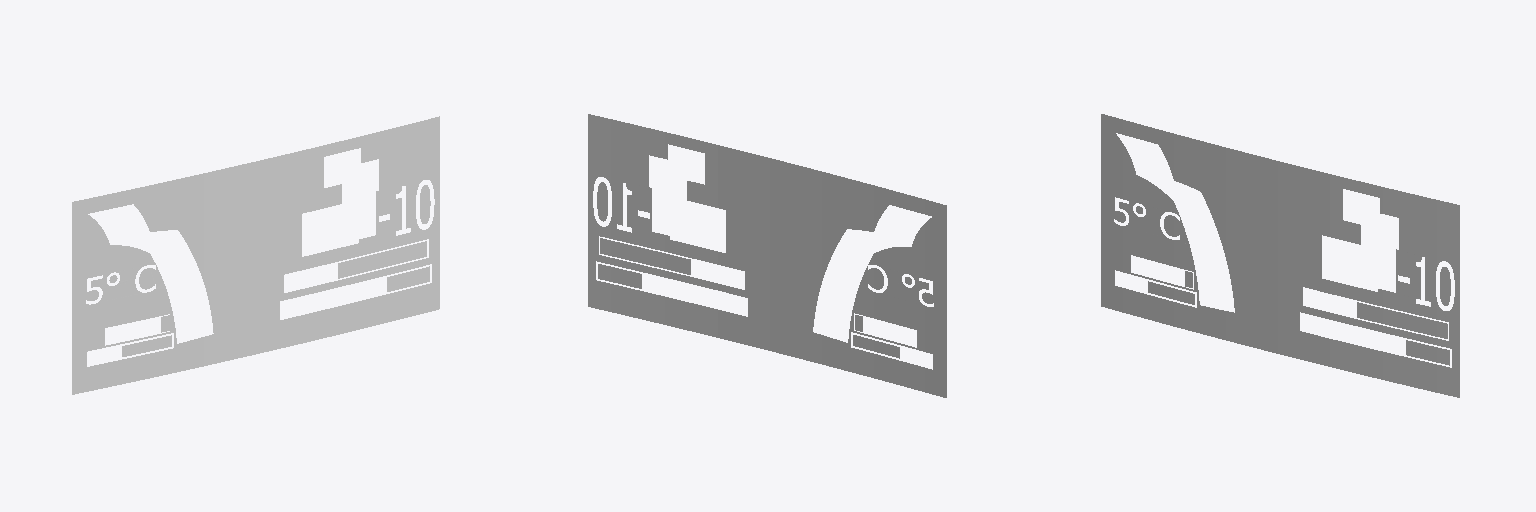
Rendered from fridge_neg1_0.obj.
3 views of the same model, side by side, from view 1: azimuth 30°, elevation 25°; view 2: azimuth 150°, elevation 25°; view 3: azimuth 330°, elevation 25° (orthographic).
Bounding box in the file's own units: 10.21 × 5.18 × 0.2396.